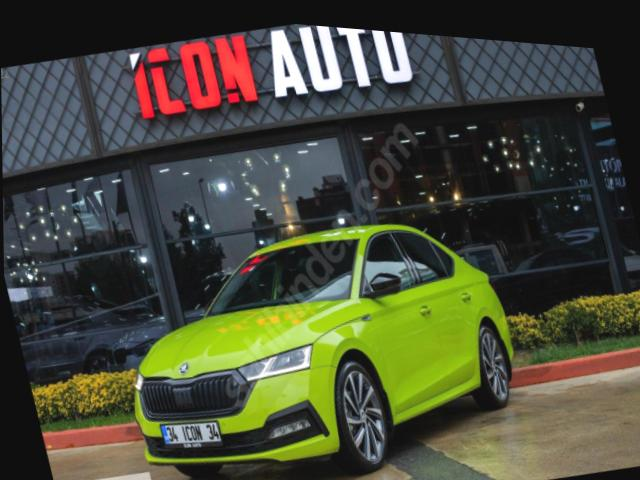plaka: (161, 421, 221, 447)
